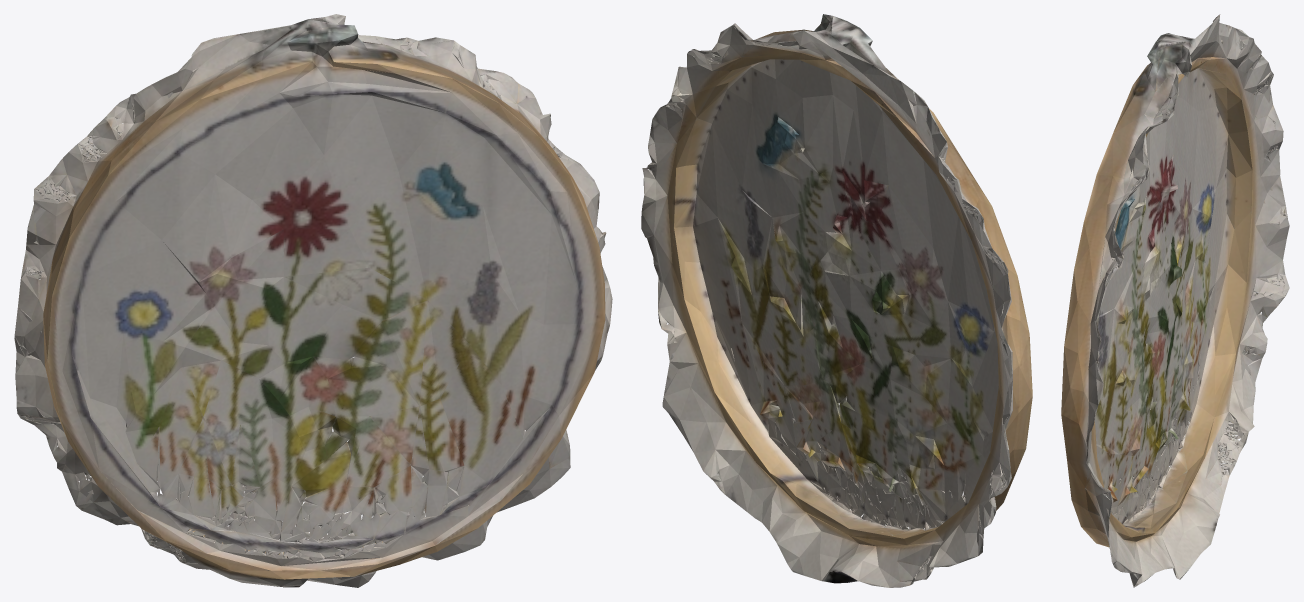
The picture shows the model from 3 angles, left to right: view 1: azimuth 30°, elevation 25°; view 2: azimuth 150°, elevation 25°; view 3: azimuth 270°, elevation 25°; orthographic projection. The views are drawn at different scales.
Parts seen in each view (by area): view 1: _Stickerei Blumen_9k_1k; view 2: _Stickerei Blumen_9k_1k; view 3: _Stickerei Blumen_9k_1k.
Part boxes in pixels (x1,y1,x2,y2): _Stickerei Blumen_9k_1k: (14,14,612,587); _Stickerei Blumen_9k_1k: (641,14,1032,587); _Stickerei Blumen_9k_1k: (1061,14,1289,587).
Bounding box in the file's own units: 0.2013 × 0.226 × 0.0896.
1 material, 1 textured.
